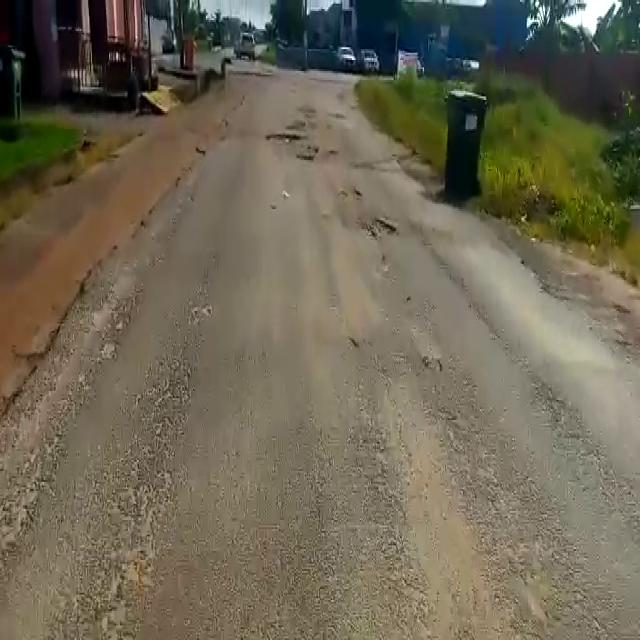Pothole: (358, 214, 402, 241), (295, 145, 328, 162), (266, 129, 303, 143)
